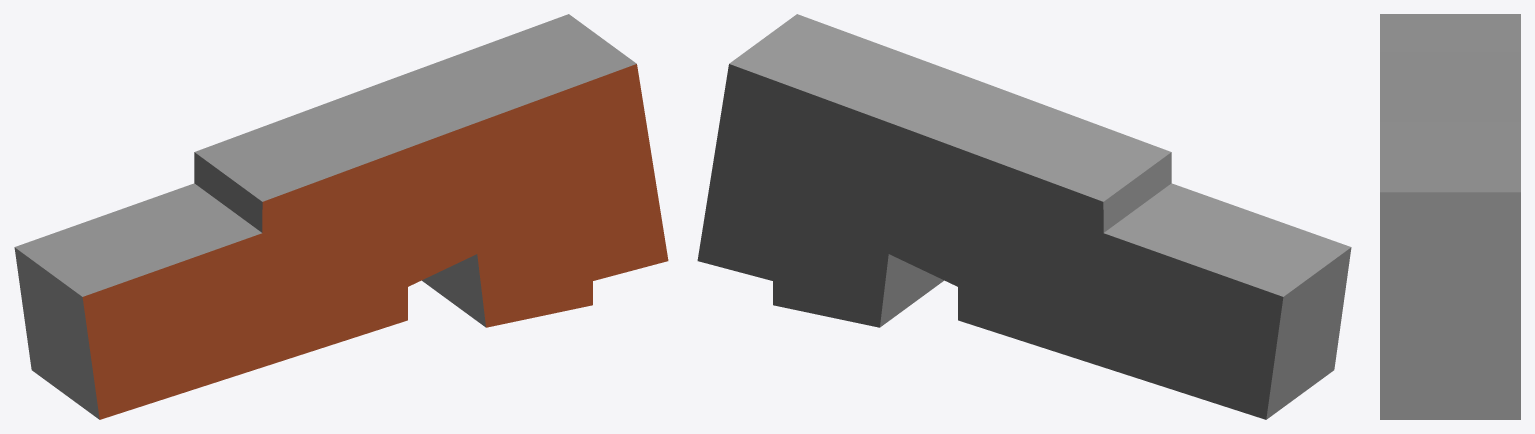
Rendered from construction_1269_assumed_A_Casa_h6m.obj.
3 renders of one model, left to right at view 1: azimuth 30°, elevation 25°; view 2: azimuth 150°, elevation 25°; view 3: azimuth 270°, elevation 25°, orthographic. The views are drawn at different scales.
Visible parts, largest first — view 1: construction_1269_assumed_A_Casa; view 2: construction_1269_assumed_A_Casa; view 3: construction_1269_assumed_A_Casa.
Part boxes in pixels (x1,y1,x2,y2): construction_1269_assumed_A_Casa: [14, 14, 668, 419]; construction_1269_assumed_A_Casa: [697, 14, 1351, 419]; construction_1269_assumed_A_Casa: [1380, 14, 1520, 419].
Bounding box in the file's own units: 29.81 × 11.21 × 6.
